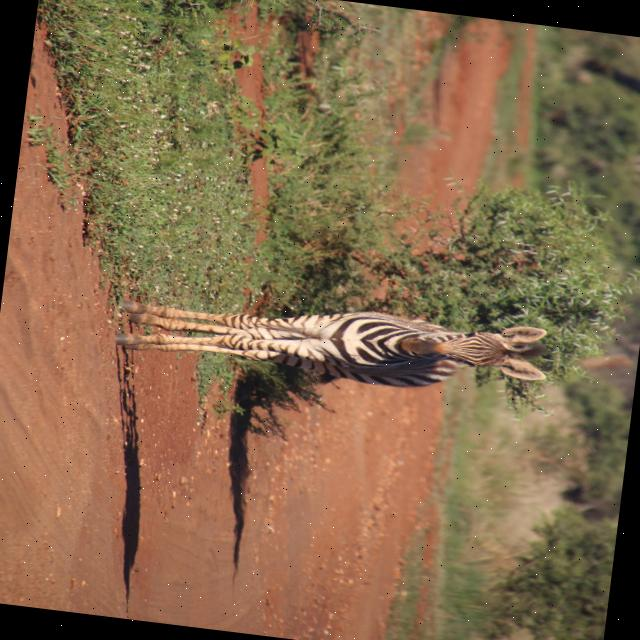Zebra: (109, 276, 552, 405)
